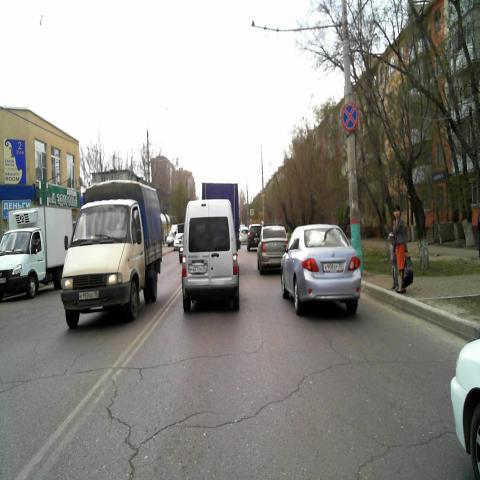3_27: (342, 102, 358, 132)
